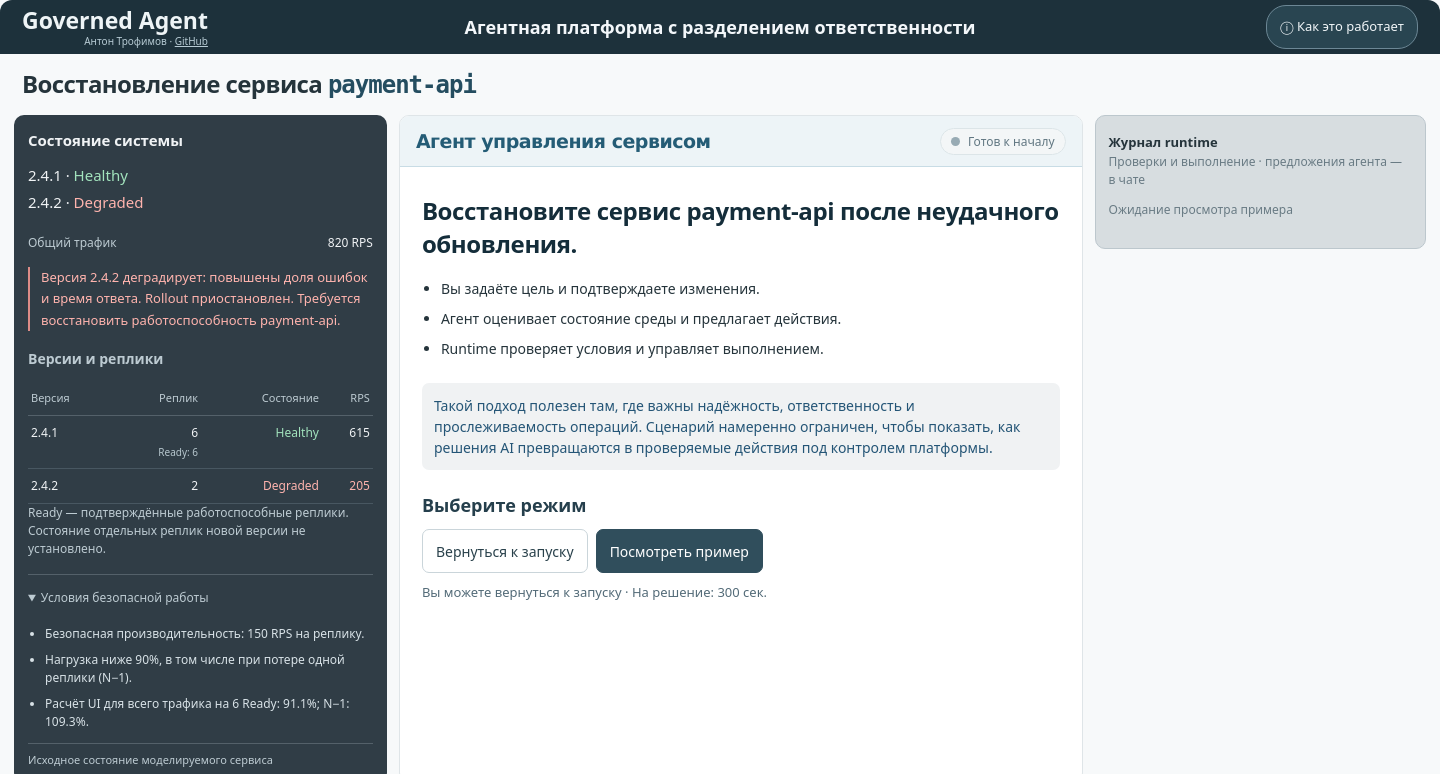
Test: lets the owner view a demo and return with the same deadline, without any new command
The width and height of the screenshot is (1440, 774).
Expected: the element named "Ваш запуск" shows "На решение: 300 сек.", [622,583,767,601]
What coordinates should you click on to do the following:
click the button "Посмотреть пример"
I would click on:
 (679, 551)
Its box is [596,529,763,573].
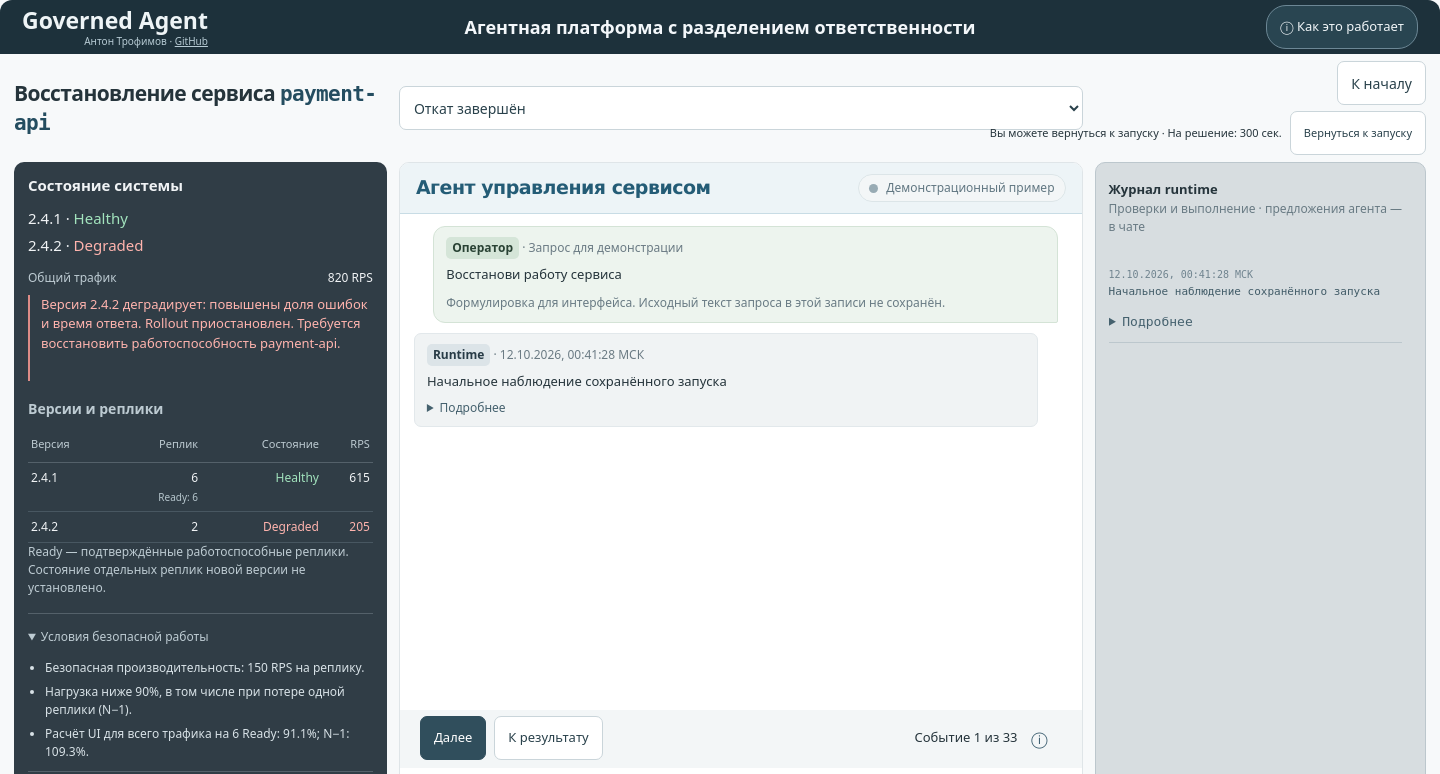
Expected: the element named "Ваш запуск" is shown, [990,111,1426,155]
What coordinates should you click on to do the following:
click the button "Вернуться к запуску"
I would click on:
 (1358, 133)
Its box is [1290,111,1426,155].
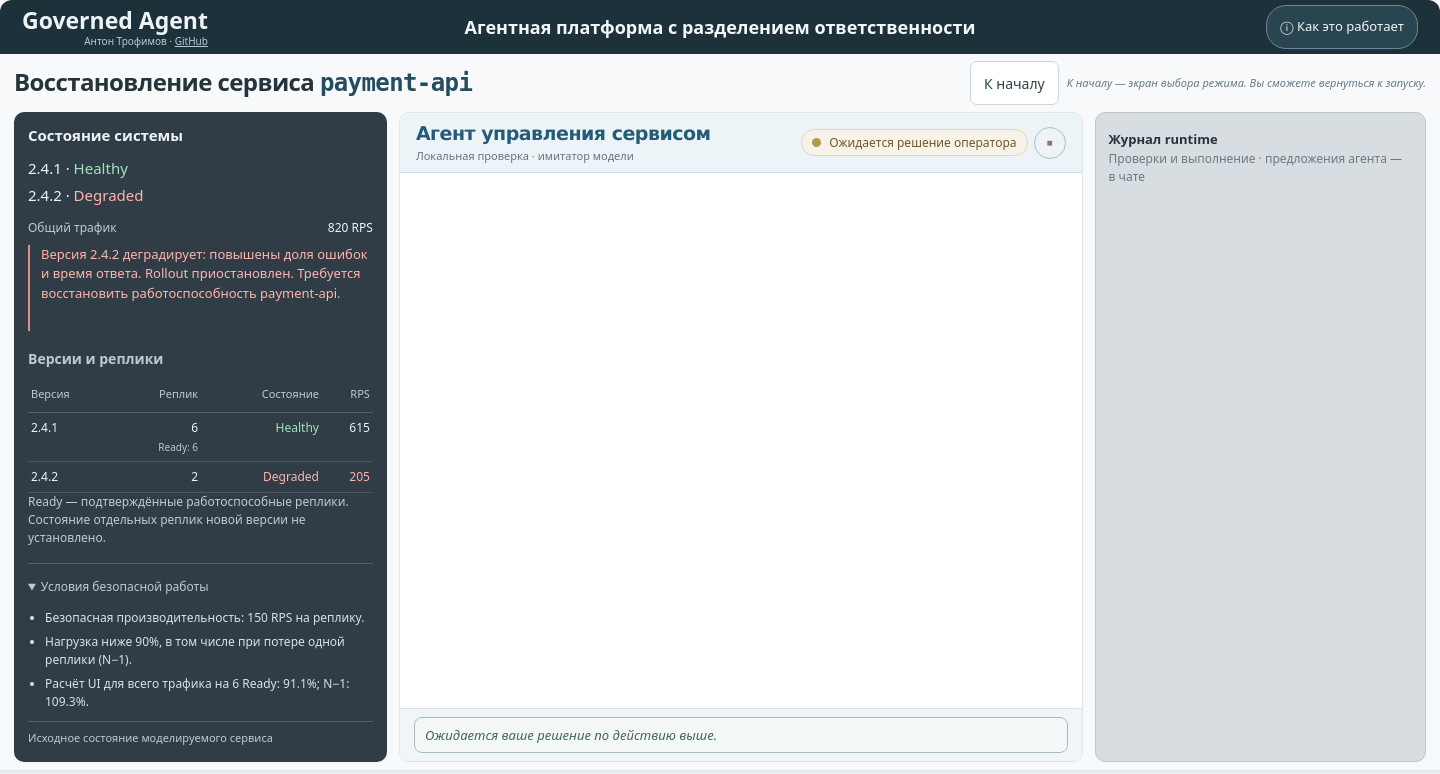
Expected: the text "Ожидается решение оператора" is shown, [829,135,1017,150]
What coordinates should you click on to do the following:
click the link "Governed Agent"
I would click on:
 (115, 20)
Its box is [22,4,208,36].
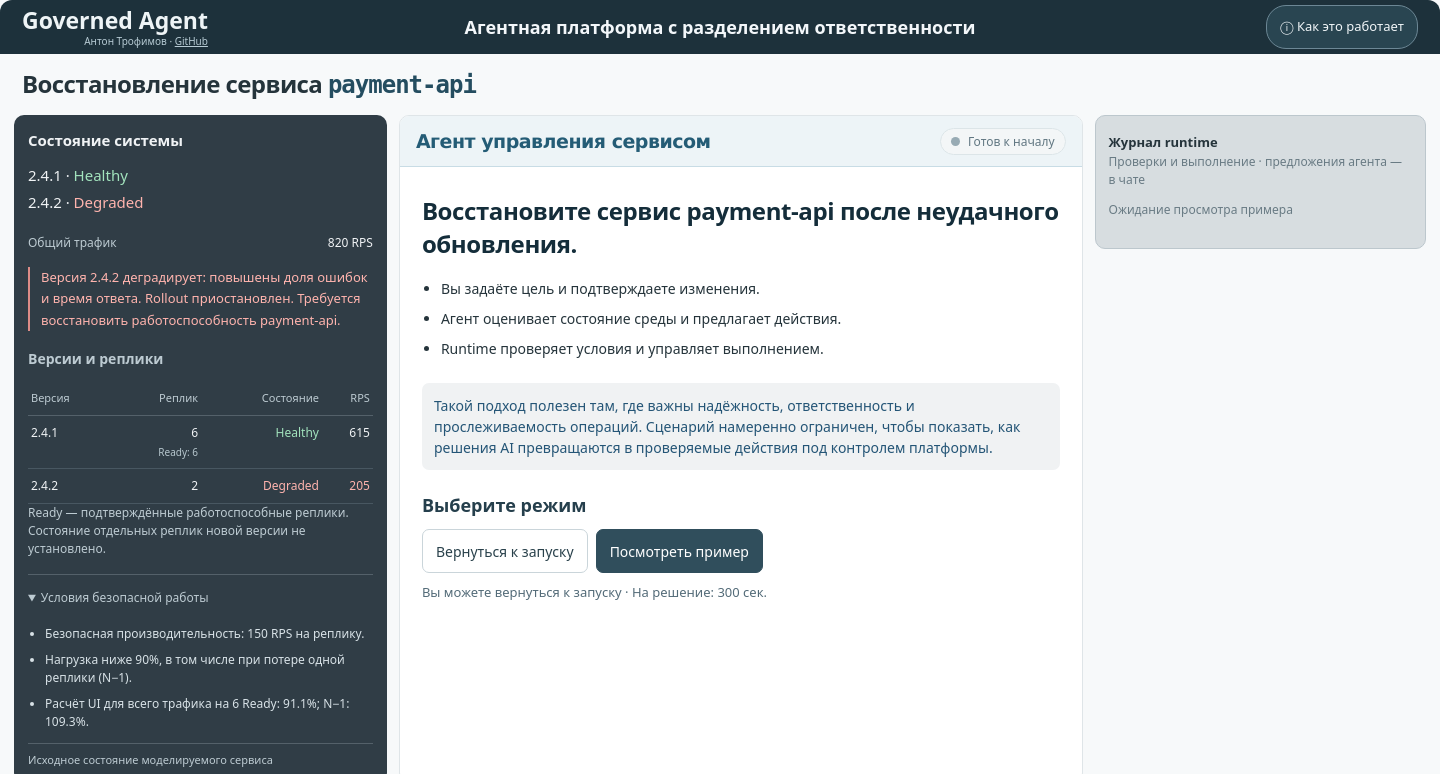
Expected: the button "Посмотреть пример" is shown, [596,529,763,573]
